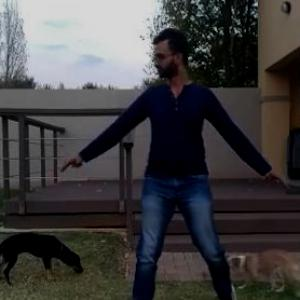land: (70, 11, 288, 299)
